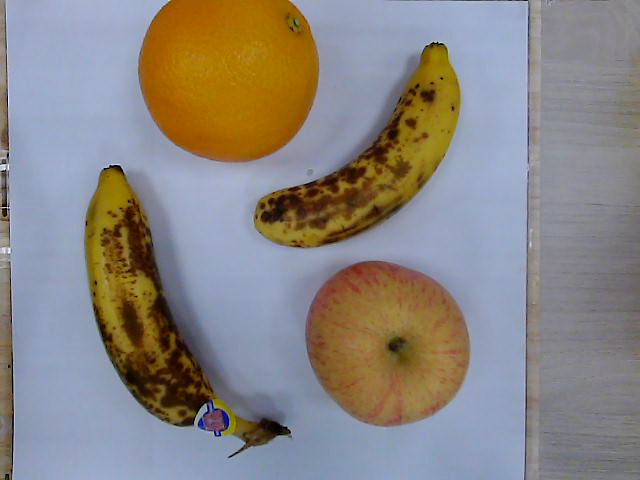fresh_apple: (306, 262, 471, 428)
fresh_orange: (140, 1, 317, 163)
rotten_banana: (84, 166, 291, 452), (254, 43, 462, 248)
